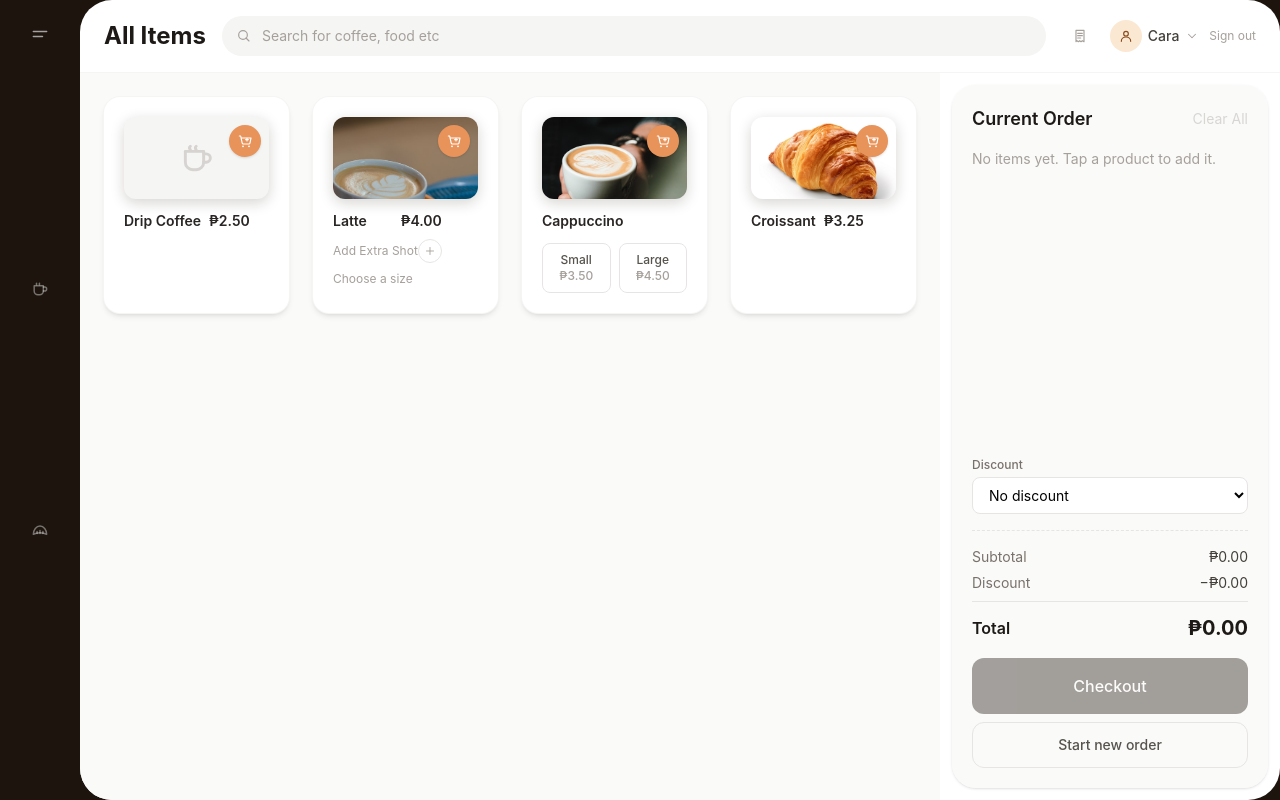
Scenario: POS cart — product catalog › filters the grid by category
Expected: the text "Drip Coffee" is shown, [124,211,201,231]
Click the button named "Bakery": (40, 531) [8,511,72,551]
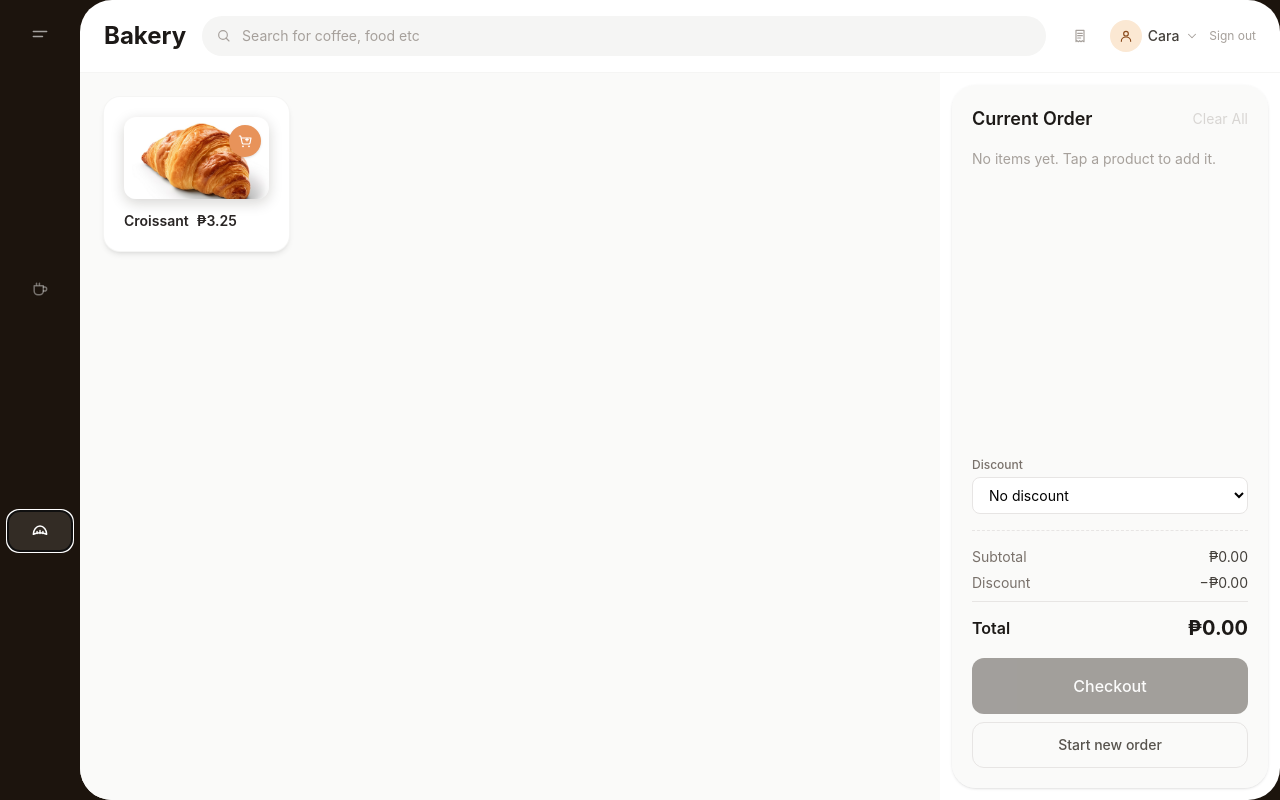
Expected: the text "Croissant" is shown, [124,211,189,231]
Now the button "Drip Coffee" is gone
